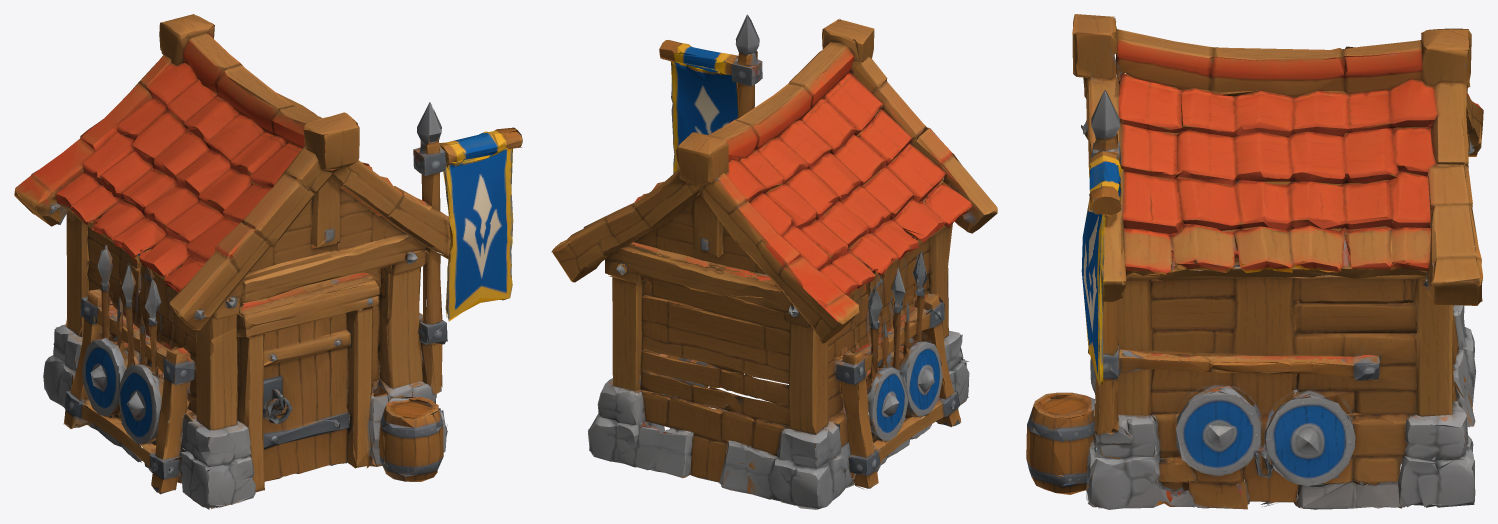
File: barracks_1.glb
The picture shows the model from 3 angles, left to right: view 1: azimuth 30°, elevation 25°; view 2: azimuth 150°, elevation 25°; view 3: azimuth 270°, elevation 25°; orthographic projection. The views are drawn at different scales.
Visible parts, largest first — view 1: Body; view 2: Body; view 3: Body.
Part boxes in pixels (box(x1,y1,x2,y2)): Body: box(14, 14, 522, 509); Body: box(551, 14, 997, 509); Body: box(1026, 14, 1483, 509).
Bounding box in the file's own units: 3.5 × 3.51 × 3.41.
Materials: 1 (1 with a texture image).
